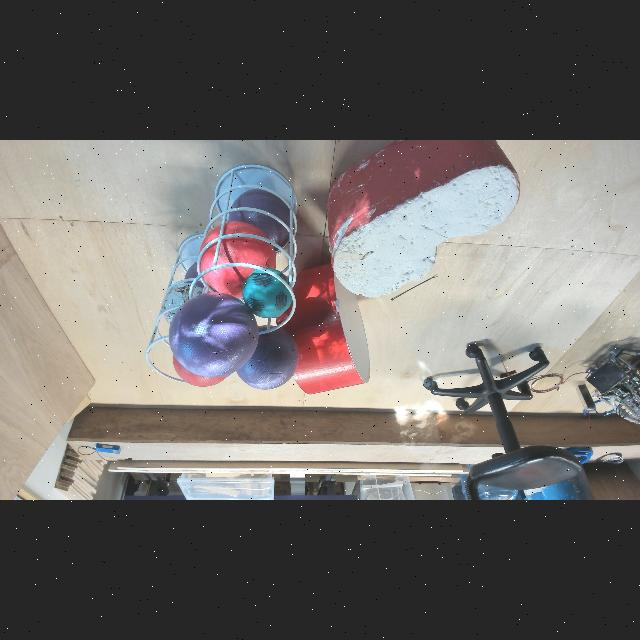P: (168, 291, 260, 379), (230, 324, 298, 392), (227, 188, 295, 254), (182, 256, 238, 314)
R: (198, 220, 278, 300), (169, 332, 235, 388)
S: (188, 162, 300, 336), (144, 231, 250, 385)
